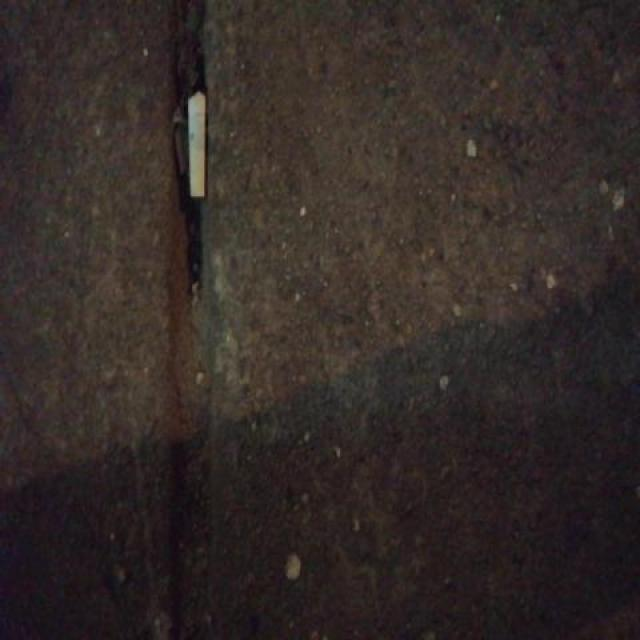non-organic waste: (186, 87, 210, 201)
